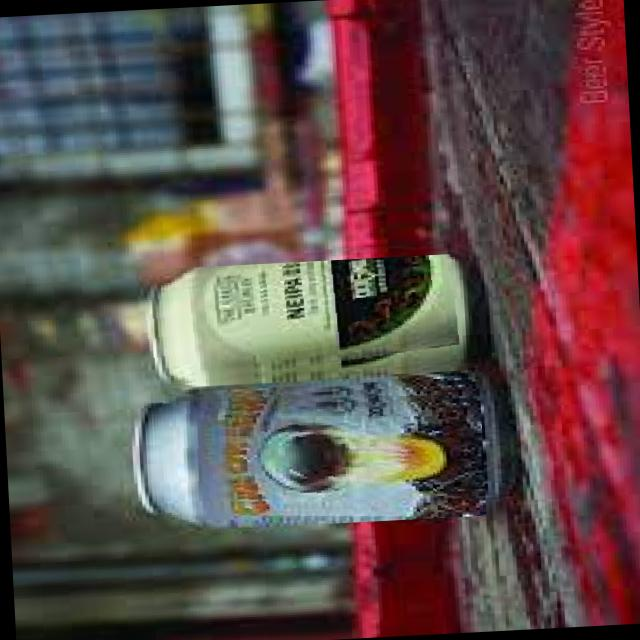Cans: (150, 376, 487, 532), (136, 252, 461, 388)
